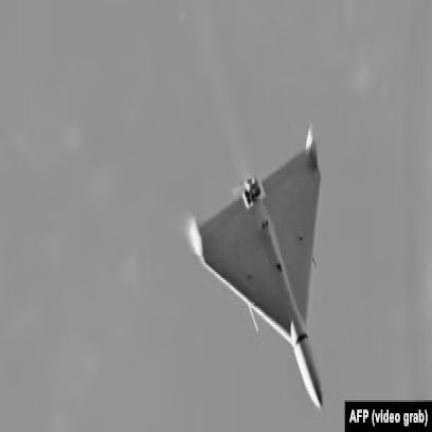Shahed: (188, 128, 322, 409)
